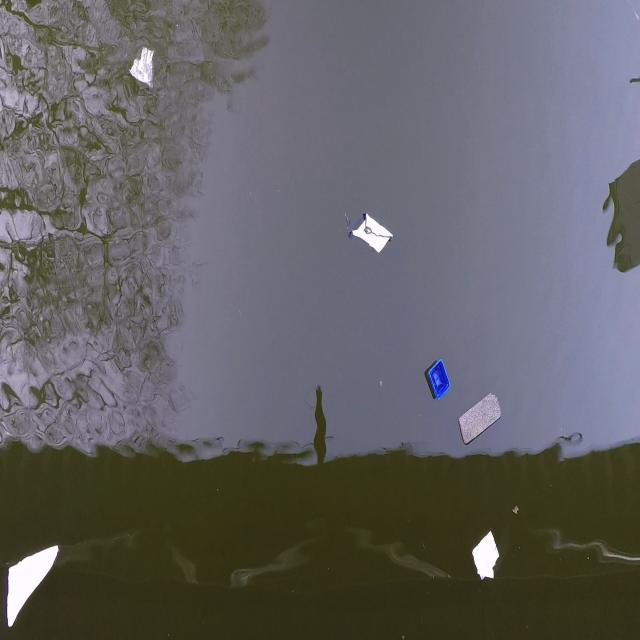Autre plastique: (470, 528, 506, 588), (424, 355, 454, 406)
Sac plastique: (128, 41, 158, 96)
